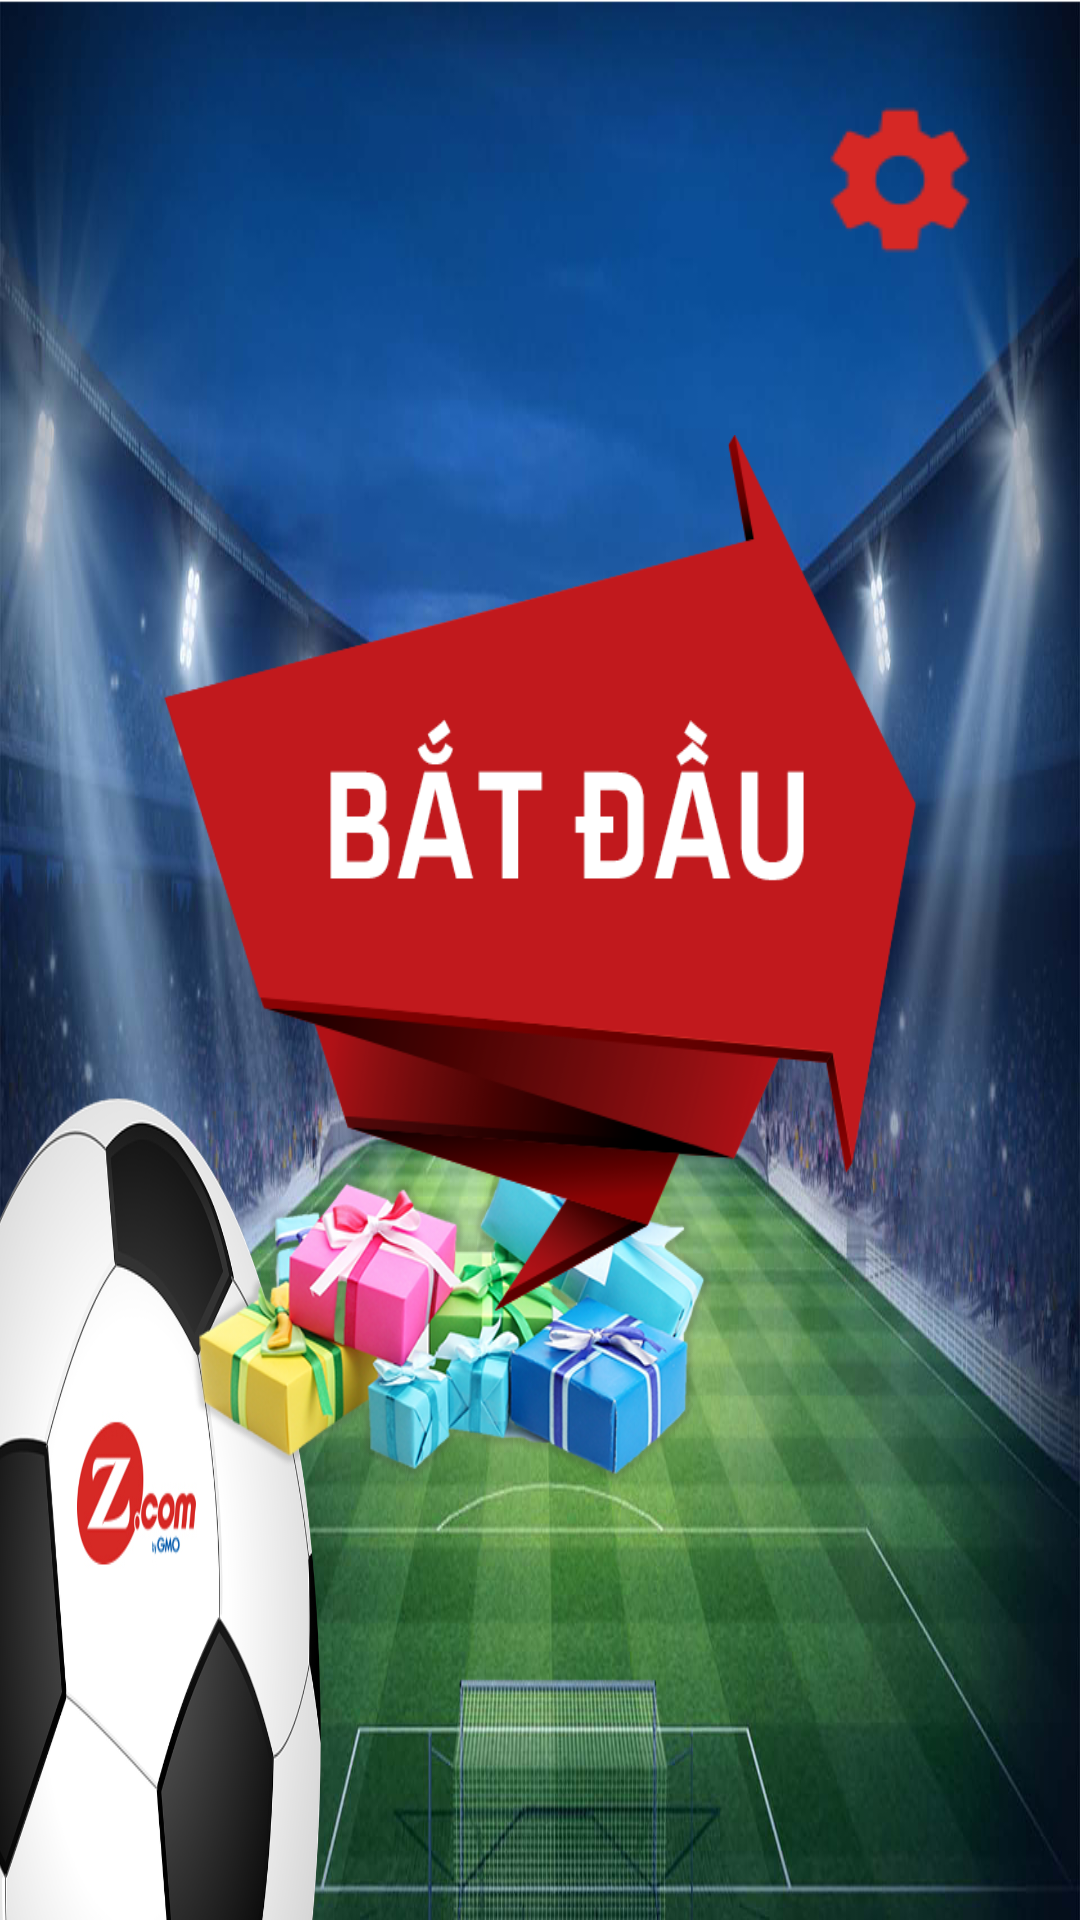

Icons on this 1080×1920 Android screen, each with the point to tap as (x,y):
settings: (900,180)
